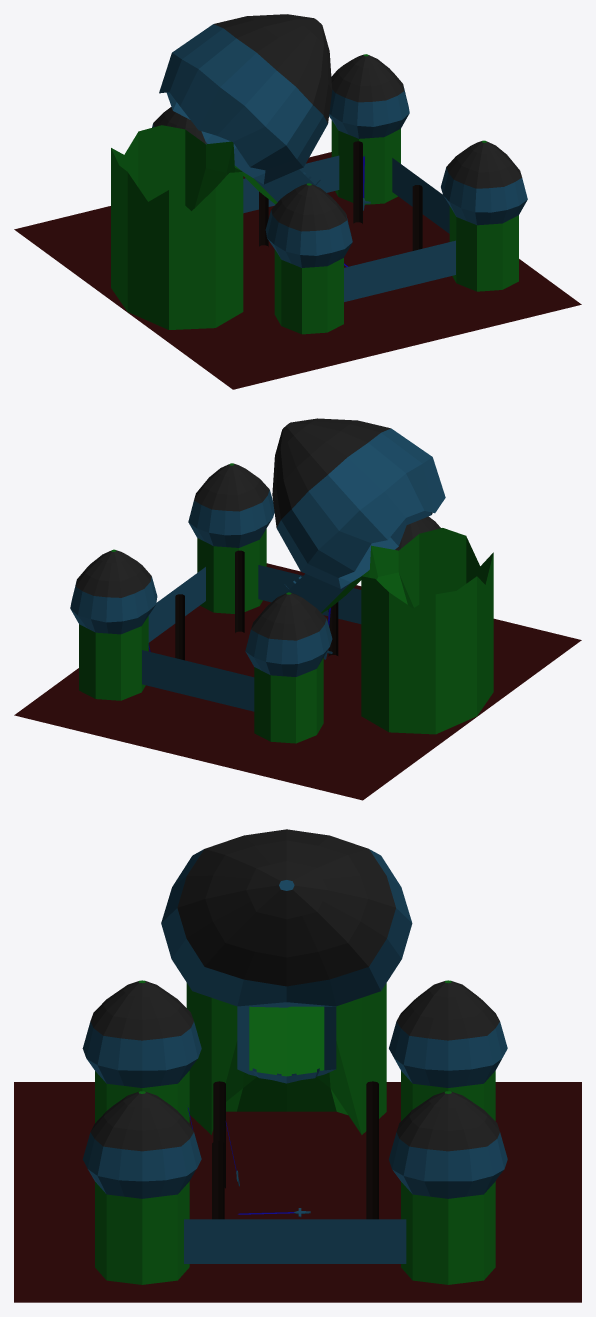
File: SwordsSmith2d.obj
3 renders of one model, top to bottom at view 1: azimuth 30°, elevation 25°; view 2: azimuth 150°, elevation 25°; view 3: azimuth 270°, elevation 25°, orthographic. The views are drawn at different scales.
Visible parts, largest first — view 1: Plane, Cube, Plane.004, Plane.001, Plane.002, Plane.007, Plane.003, Plane.008, Cube.002, Cube.001, Plane.005; view 2: Plane, Cube, Plane.005, Plane.002, Plane.001, Plane.008, Plane.007, Plane.003, Cube.001, Cube.002, Plane.004; view 3: Cube, Plane, Plane.002, Plane.001, Plane.004, Plane.005, Plane.003, Cube.001, Cube.002, Cube.004, Cube.003.
Boxes of the visible parts, bbox=[...] form: Plane: bbox=[111, 14, 332, 329]; Cube: bbox=[14, 152, 581, 389]; Plane.004: bbox=[265, 183, 352, 334]; Plane.001: bbox=[441, 140, 527, 291]; Plane.002: bbox=[329, 54, 409, 204]; Plane.007: bbox=[344, 240, 455, 301]; Plane.003: bbox=[392, 158, 449, 233]; Plane.008: bbox=[243, 155, 339, 213]; Cube.002: bbox=[353, 141, 362, 223]; Cube.001: bbox=[412, 185, 422, 250]; Plane.005: bbox=[152, 107, 207, 144]; Plane: bbox=[272, 418, 493, 734]; Cube: bbox=[14, 563, 581, 800]; Plane.005: bbox=[245, 592, 332, 743]; Plane.002: bbox=[70, 549, 157, 700]; Plane.001: bbox=[188, 463, 274, 613]; Plane.008: bbox=[142, 650, 254, 711]; Plane.007: bbox=[258, 565, 361, 623]; Plane.003: bbox=[148, 567, 205, 642]; Cube.001: bbox=[235, 550, 244, 632]; Cube.002: bbox=[175, 594, 184, 660]; Plane.004: bbox=[395, 516, 440, 550]; Cube: bbox=[14, 1082, 581, 1302]; Plane: bbox=[161, 829, 412, 1134]; Plane.002: bbox=[388, 1091, 507, 1284]; Plane.001: bbox=[82, 1091, 201, 1284]; Plane.004: bbox=[82, 980, 201, 1122]; Plane.005: bbox=[389, 980, 507, 1120]; Plane.003: bbox=[184, 1219, 406, 1263]; Cube.001: bbox=[212, 1141, 224, 1219]; Cube.002: bbox=[366, 1141, 378, 1219]; Cube.004: bbox=[213, 1081, 225, 1188]; Cube.003: bbox=[366, 1081, 378, 1142].
Size of the model in its own units: 5.51 by 3.82 by 5.98.
